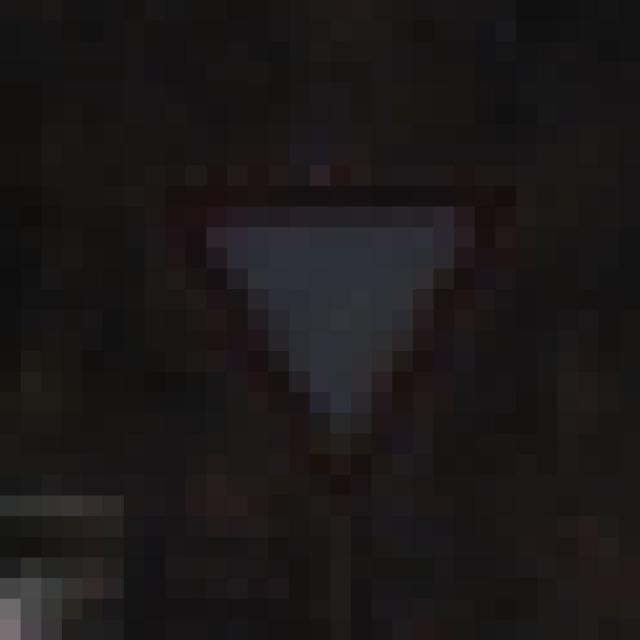Give Way: (104, 125, 538, 538)
